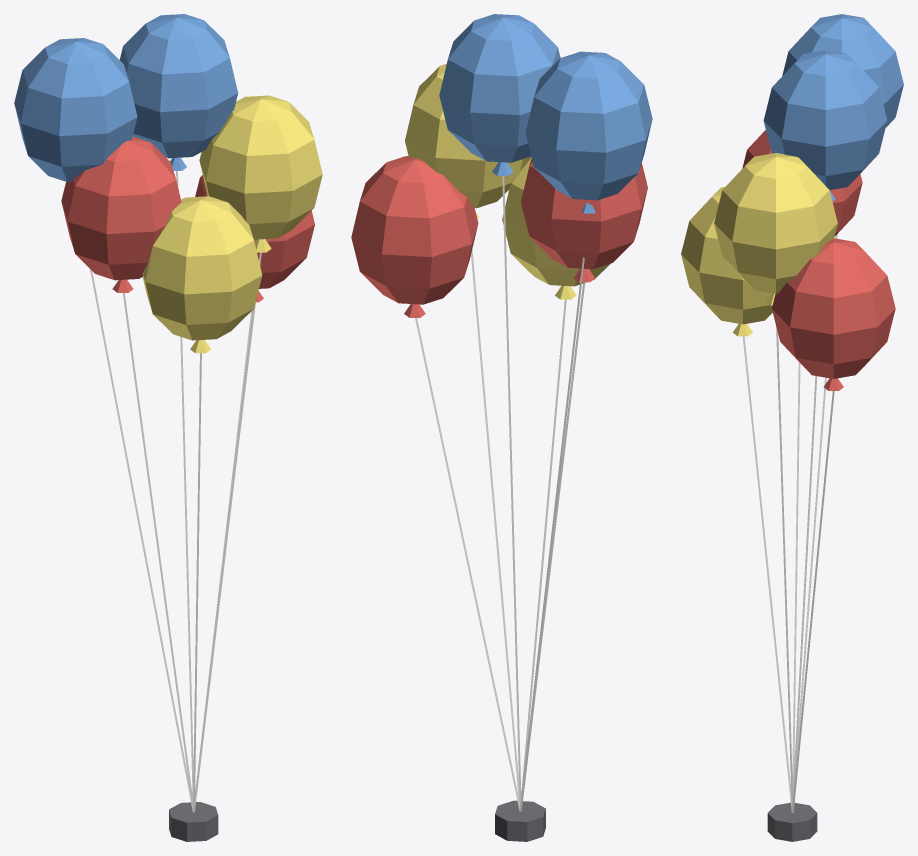
The model's file is prop_balloon_cluster_01.glb.
The picture shows the model from 3 angles, left to right: view 1: azimuth 30°, elevation 25°; view 2: azimuth 150°, elevation 25°; view 3: azimuth 270°, elevation 25°; orthographic projection. The views are drawn at different scales.
Visible parts, largest first — view 1: prop_balloon_cluster_01_body; view 2: prop_balloon_cluster_01_body; view 3: prop_balloon_cluster_01_body.
Part boxes in pixels (left/top/right/bottom): prop_balloon_cluster_01_body: left=14, top=14, right=322, bottom=841; prop_balloon_cluster_01_body: left=351, top=14, right=652, bottom=841; prop_balloon_cluster_01_body: left=681, top=14, right=903, bottom=841.
Size of the model in its own units: 0.77 by 2.08 by 0.54.
